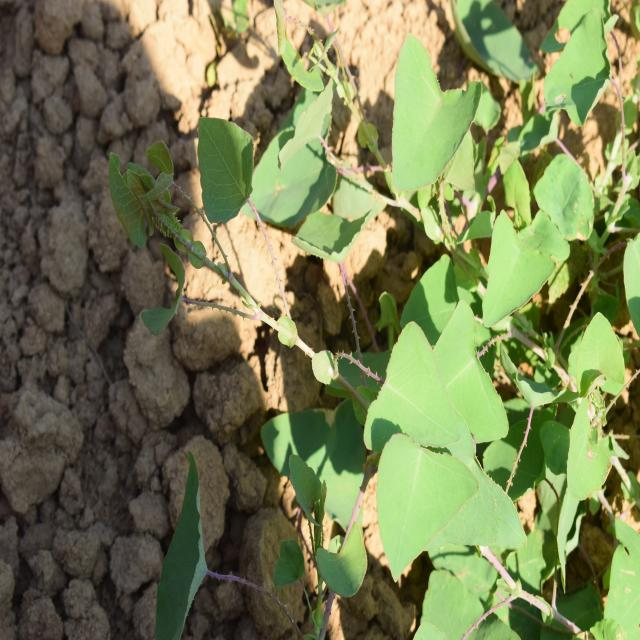Asiatic_Smartweed: (242, 60, 579, 306), (350, 302, 538, 579)
